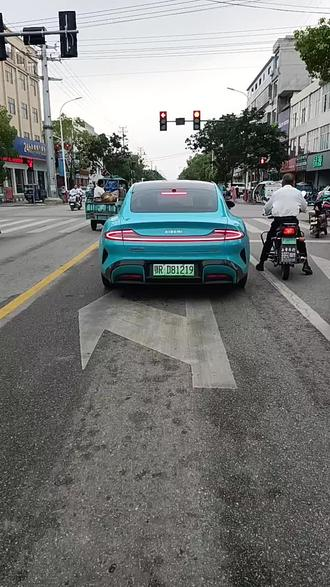su7: (100, 176, 253, 297)
